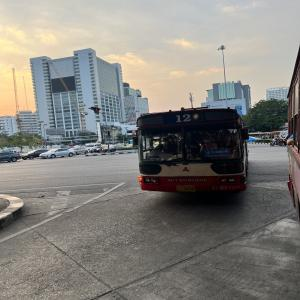BMTA-bus: (134, 107, 249, 195)
Bus Line Number: (172, 112, 198, 123)
Bus Side Number: (210, 184, 242, 192)
Destination Sign: (202, 149, 232, 159)
